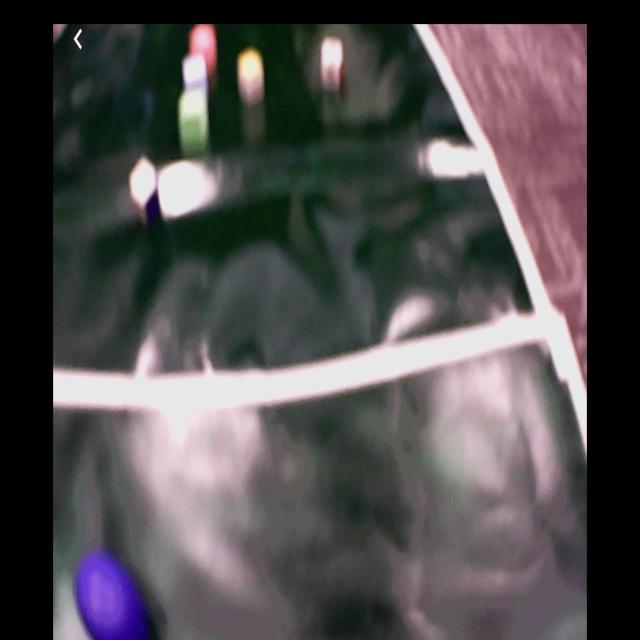ball: (72, 552, 147, 640)
